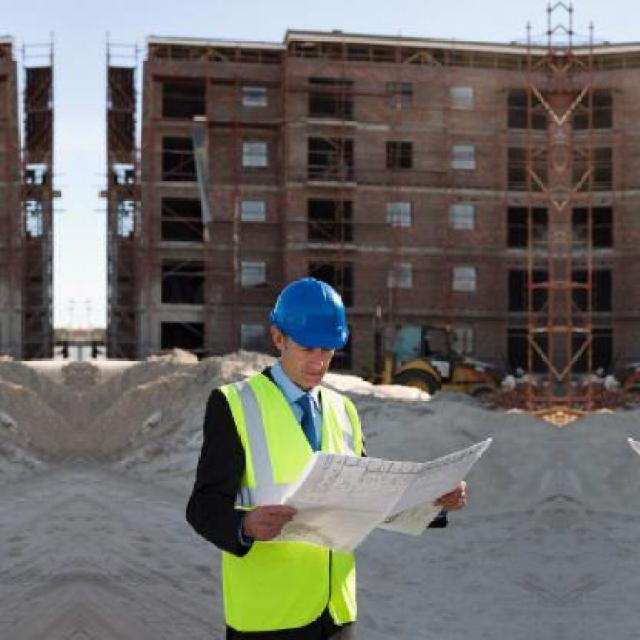Reflective-Jacket: (198, 366, 376, 640)
Safety-Helmet: (253, 269, 364, 362)
